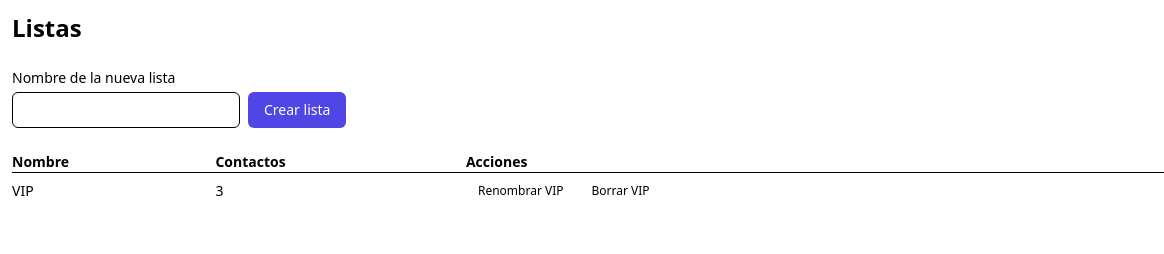
Test: contact lists › creates a list and shows it with its count
The image size is (1164, 254).
Expected: the text "VIP" is shown, [12,181,34,200]
Type "Newsletter" into the field labelled "Nombre de la nueva lista" at coordinates (126, 110), box [12,92,240,128]
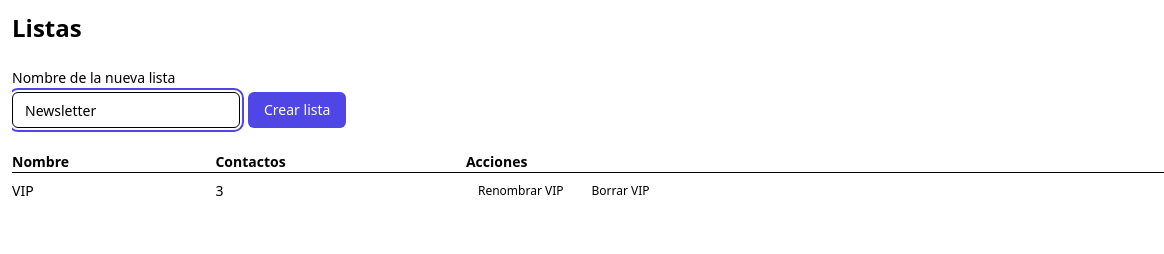
Click the button "Crear lista" at coordinates (297, 110), box [248,92,346,128]
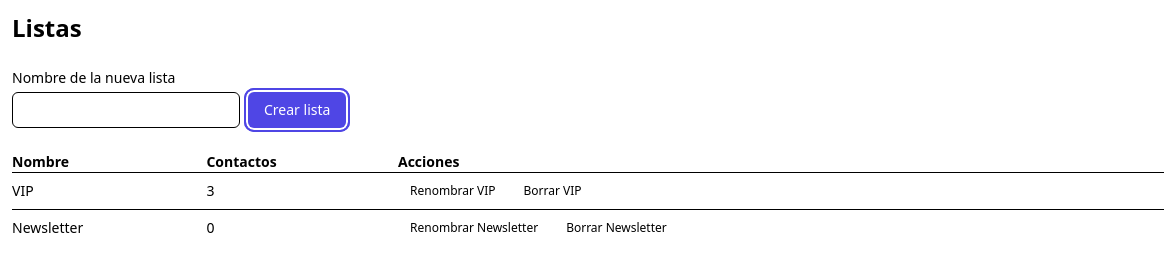
Now the text "Newsletter" shows "0", box [206,218,214,237]
